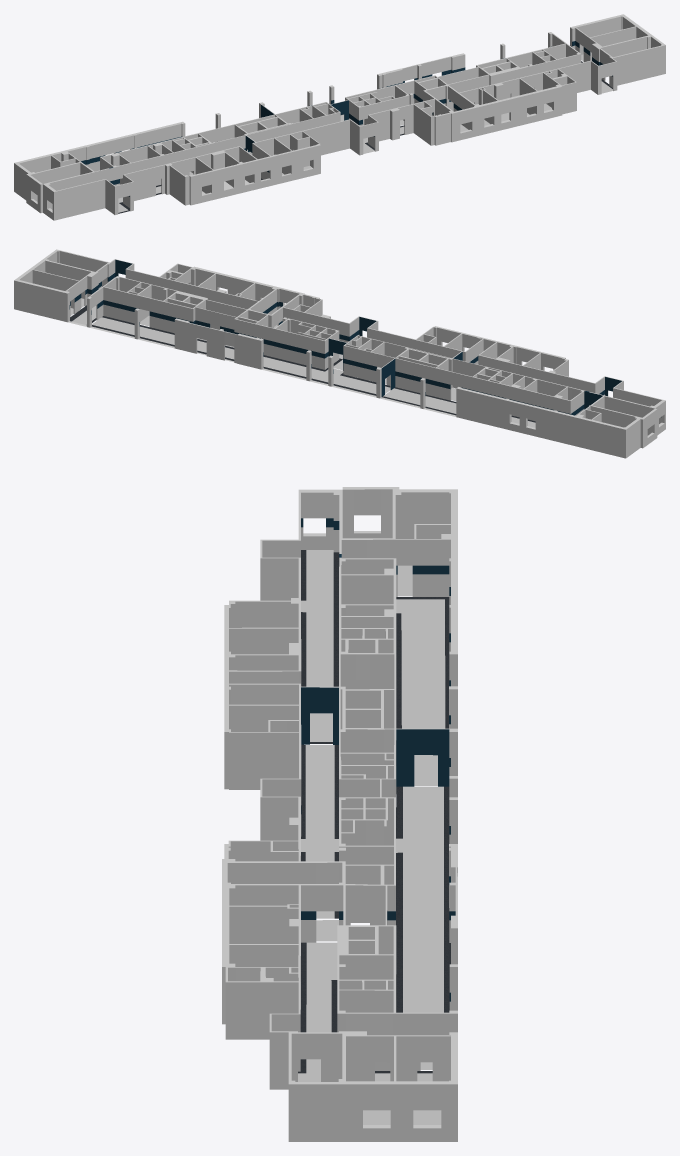
File: coridor_5thFloor.fbx
3 views of the same model, one above another, from view 1: azimuth 30°, elevation 25°; view 2: azimuth 150°, elevation 25°; view 3: azimuth 270°, elevation 25° (orthographic). The views are drawn at different scales.
Visible parts, largest first — view 1: Plane; view 2: Plane; view 3: Plane.
Boxes of the visible parts, x1,y1,x2,y2 form: Plane: [14, 14, 665, 220]; Plane: [14, 249, 665, 458]; Plane: [222, 487, 457, 1141].
Size of the model in its own units: 9376 by 420 by 1567.
